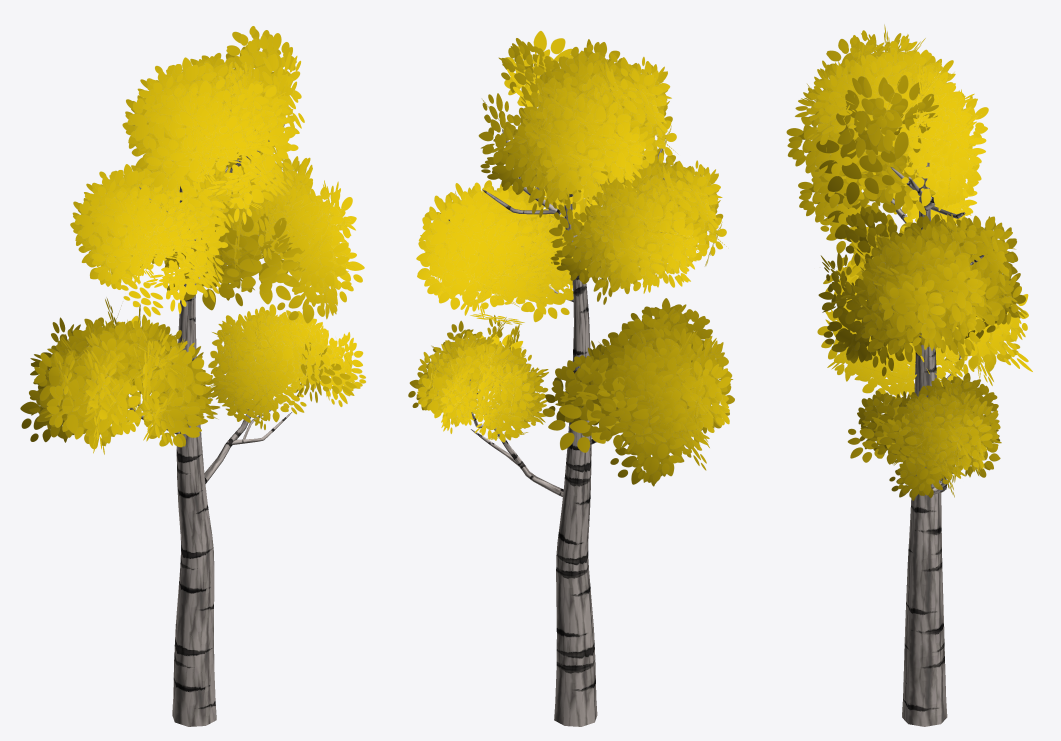
The model's file is prop_sn_birch_tree_1.glb.
3 views of the same model, side by side, from view 1: azimuth 30°, elevation 25°; view 2: azimuth 150°, elevation 25°; view 3: azimuth 270°, elevation 25° (orthographic). The views are drawn at different scales.
Parts seen in each view (by area): view 1: BirchTree_1; view 2: BirchTree_1; view 3: BirchTree_1.
Boxes of the visible parts, x1=… form: BirchTree_1: x1=20, y1=26, x2=365, y2=726; BirchTree_1: x1=408, y1=30, x2=734, y2=726; BirchTree_1: x1=786, y1=24, x2=1032, y2=726.
Size of the model in its own units: 2.71 by 5.45 by 1.94.
2 materials, 2 textured.
